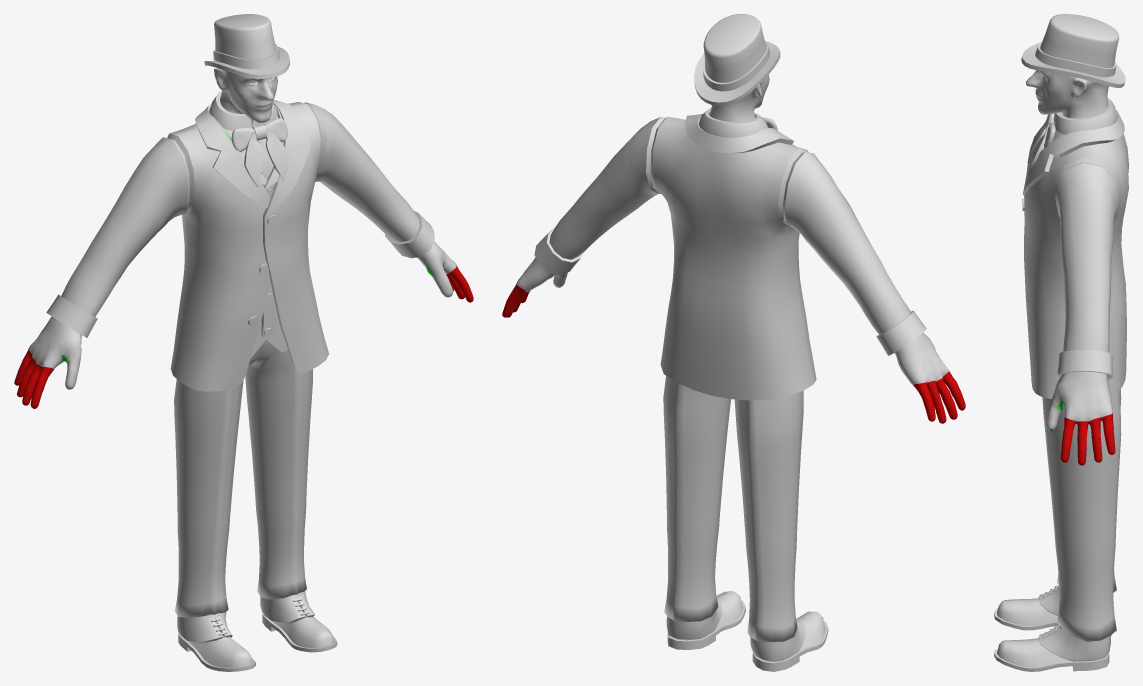
Rendered from NPC_Citizen.fbx.
3 views of the same model, side by side, from view 1: azimuth 30°, elevation 25°; view 2: azimuth 150°, elevation 25°; view 3: azimuth 270°, elevation 25° (orthographic).
Parts seen in each view (by area): view 1: Shirt Sveels normal.005; view 2: Shirt Sveels normal.005; view 3: Shirt Sveels normal.005.
Boxes of the visible parts, box(x1,y1,x2,y2) form: Shirt Sveels normal.005: box(14, 14, 473, 671); Shirt Sveels normal.005: box(502, 14, 965, 671); Shirt Sveels normal.005: box(994, 14, 1128, 671).
Size of the model in its own units: 135 by 180 by 35.51.
